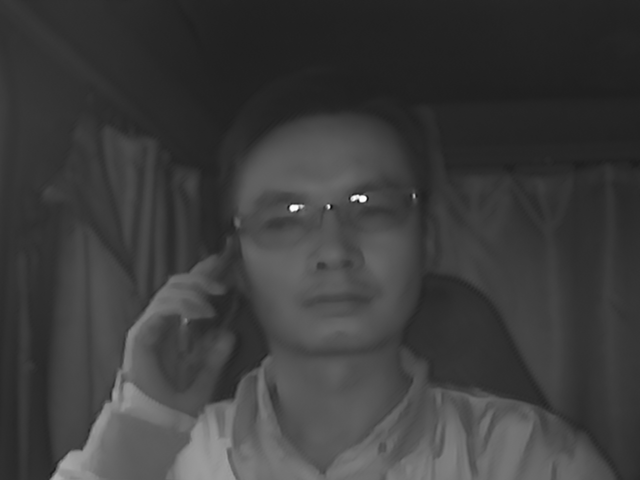hand: (123, 261, 234, 409)
